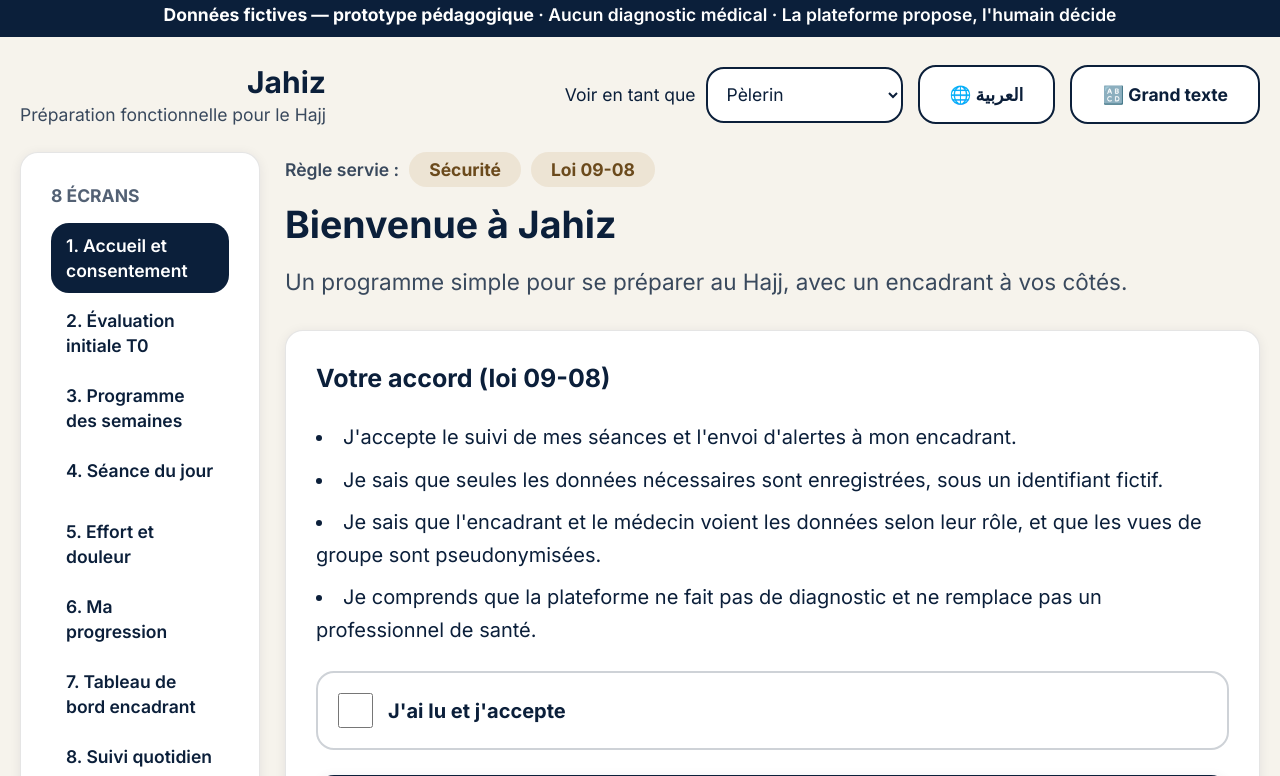
Navigation et écrans pèlerin › écran 1 — le consentement est exigé avant de continuer
Click the checkbox at [356, 711], box [338,693,373,728]
(page scrolled)
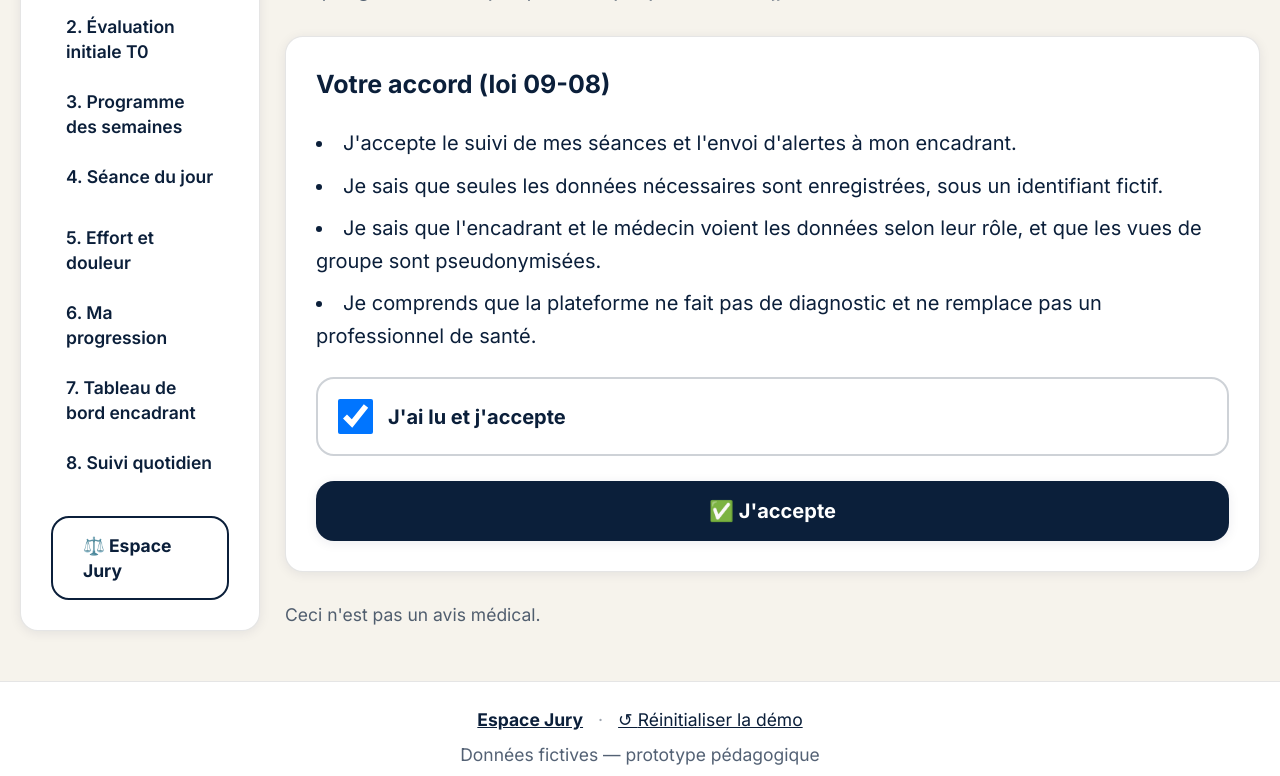
Result: the button "✅ J'accepte" is enabled
Click the button "✅ J'accepte" at [772, 511], box [316,481,1229,541]
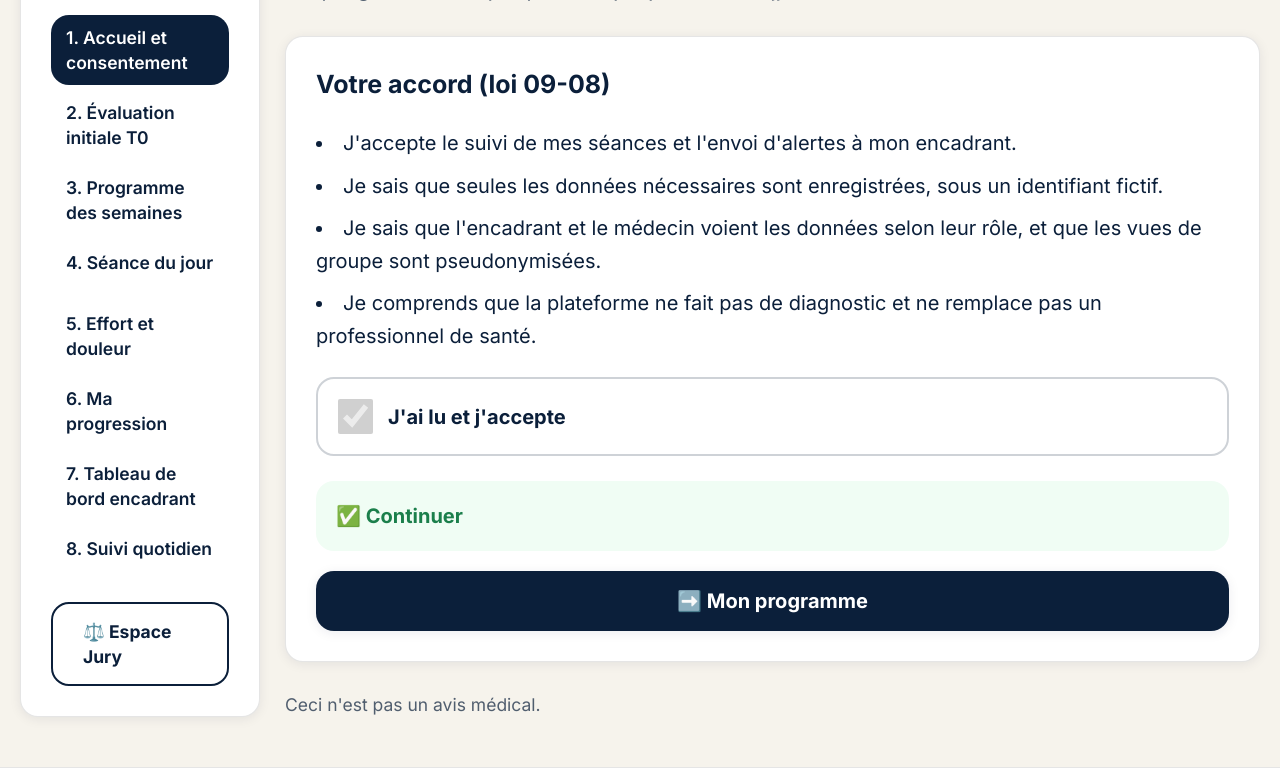
Result: the message "✅ Continuer" is shown at [316,481,1229,551]
